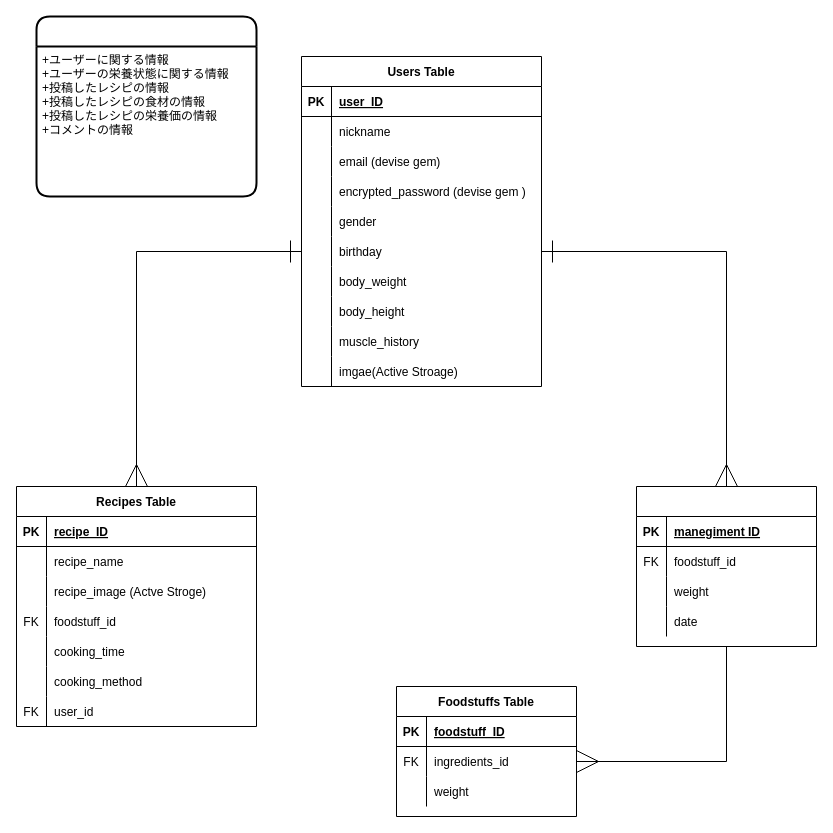
This 833x833 diagram has some shape labels left out. The shapes that lost their labels are listed below. From the top down, each one's box as (x1, y1, x2, y2) in pixels, then its label:
(35, 15, 257, 197): Entity
(636, 486, 816, 646): MyNutritions Table
